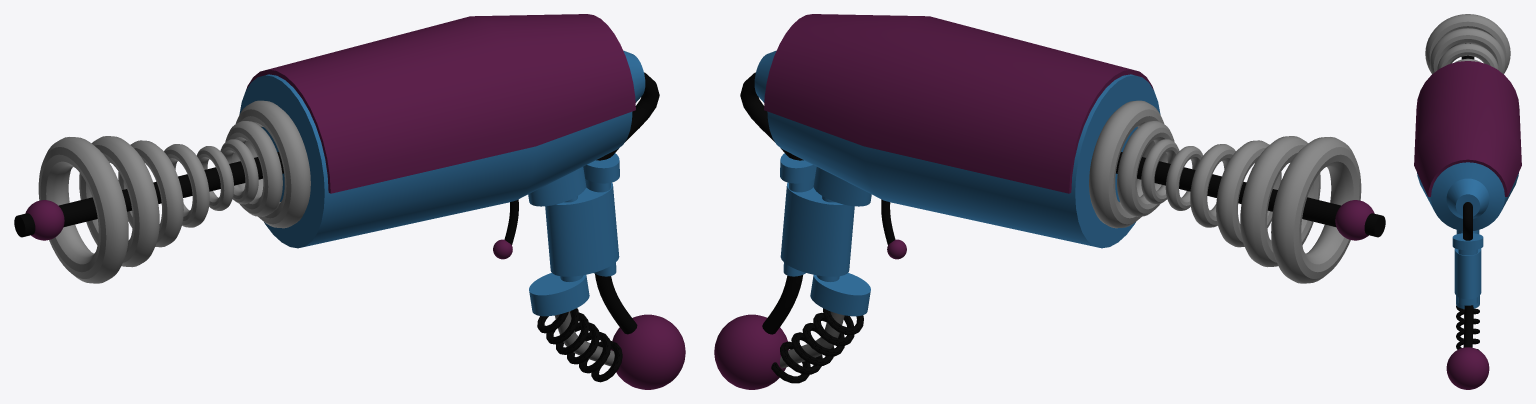
The model's file is пушкакосмо1.fbx.
3 views of the same model, side by side, from view 1: azimuth 30°, elevation 25°; view 2: azimuth 150°, elevation 25°; view 3: azimuth 270°, elevation 25° (orthographic). The views are drawn at different scales.
Visible parts, largest first — view 1: Cylinder.004, Cylinder, Torus.007, Cylinder.007, Torus.006, Torus, Sphere.001, Cube, Torus.005, Torus.001, Cylinder.002, Cylinder.010 (+9 smaller); view 2: Cylinder.004, Cylinder, Torus.007, Cylinder.007, Torus.006, Torus, Sphere.001, Cube, Torus.005, Torus.001, Cylinder.002, Cylinder.010 (+9 smaller); view 3: Cylinder.004, Cylinder, Torus.007, Sphere.001, Torus.006, Cylinder.007, Torus.005, Cylinder.003, Cube, BezierCurve.002, BezierCurve, Cylinder.008 (+1 smaller).
Part boxes in pixels (bbox=[...]): Cylinder.004: bbox=[246, 14, 635, 193]; Cylinder: bbox=[239, 50, 645, 248]; Torus.007: bbox=[38, 137, 128, 283]; Cylinder.007: bbox=[545, 182, 619, 276]; Torus.006: bbox=[79, 136, 159, 267]; Torus: bbox=[235, 100, 310, 228]; Sphere.001: bbox=[610, 314, 685, 389]; Cube: bbox=[537, 308, 622, 382]; Torus.005: bbox=[118, 140, 183, 247]; Torus.001: bbox=[225, 121, 282, 216]; Cylinder.002: bbox=[14, 152, 283, 237]; Cylinder.010: bbox=[529, 273, 589, 316]; Cylinder.004: bbox=[764, 14, 1153, 193]; Cylinder: bbox=[754, 50, 1160, 248]; Torus.007: bbox=[1271, 137, 1361, 283]; Cylinder.007: bbox=[780, 182, 854, 276]; Torus.006: bbox=[1240, 136, 1320, 267]; Torus: bbox=[1089, 100, 1164, 228]; Sphere.001: bbox=[714, 314, 789, 389]; Cube: bbox=[771, 308, 863, 383]; Torus.005: bbox=[1216, 140, 1281, 247]; Torus.001: bbox=[1117, 121, 1174, 216]; Cylinder.002: bbox=[1116, 152, 1385, 237]; Cylinder.010: bbox=[810, 273, 870, 316]; Cylinder.004: bbox=[1414, 61, 1521, 196]; Cylinder: bbox=[1417, 162, 1518, 230]; Torus.007: bbox=[1425, 14, 1510, 72]; Sphere.001: bbox=[1446, 347, 1489, 389]; Torus.006: bbox=[1430, 28, 1505, 74]; Cylinder.007: bbox=[1454, 248, 1481, 299]; Torus.005: bbox=[1437, 43, 1498, 70]; Cylinder.003: bbox=[1452, 233, 1483, 250]; Cube: bbox=[1456, 305, 1479, 350]; BezierCurve.002: bbox=[1463, 305, 1473, 347]; BezierCurve: bbox=[1463, 202, 1472, 240]; Cylinder.008: bbox=[1458, 297, 1477, 305].
Bounding box in the file's own units: 413 × 240 × 103.
